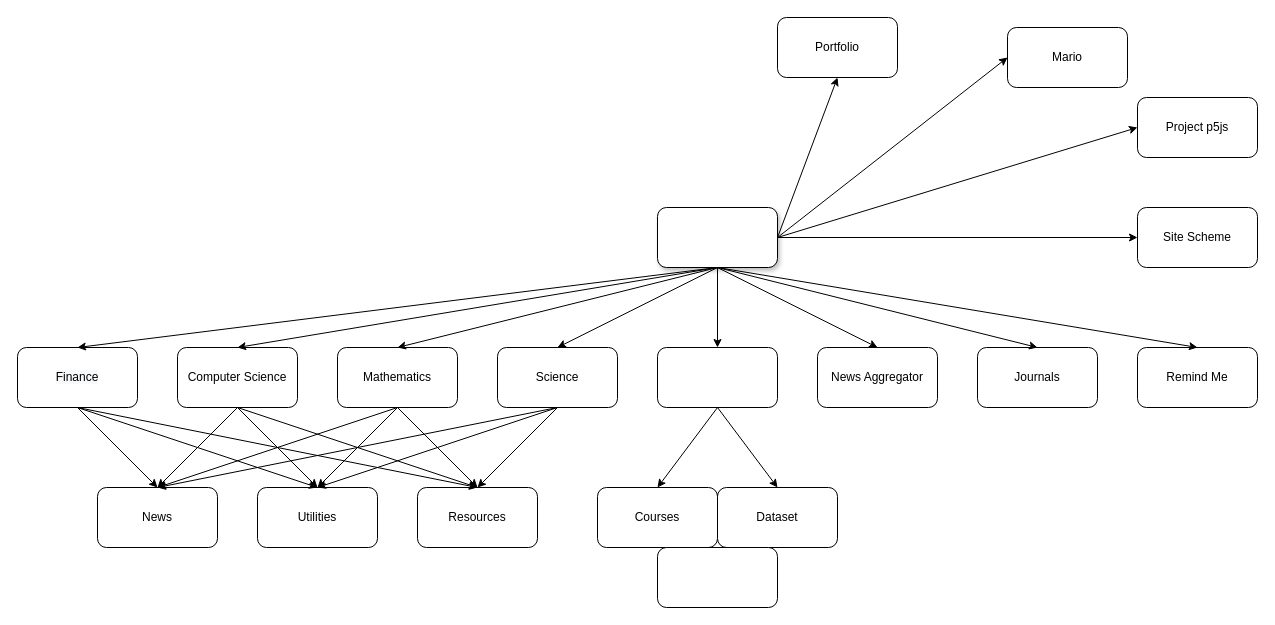
Image size: 1275x625. Some labels were removed from this diagram. The shapes that lost their labels are listed below. From the top down, each one's centre as x and y in pixels, then its label:
[718,238]: Main
[717,377]: Random
